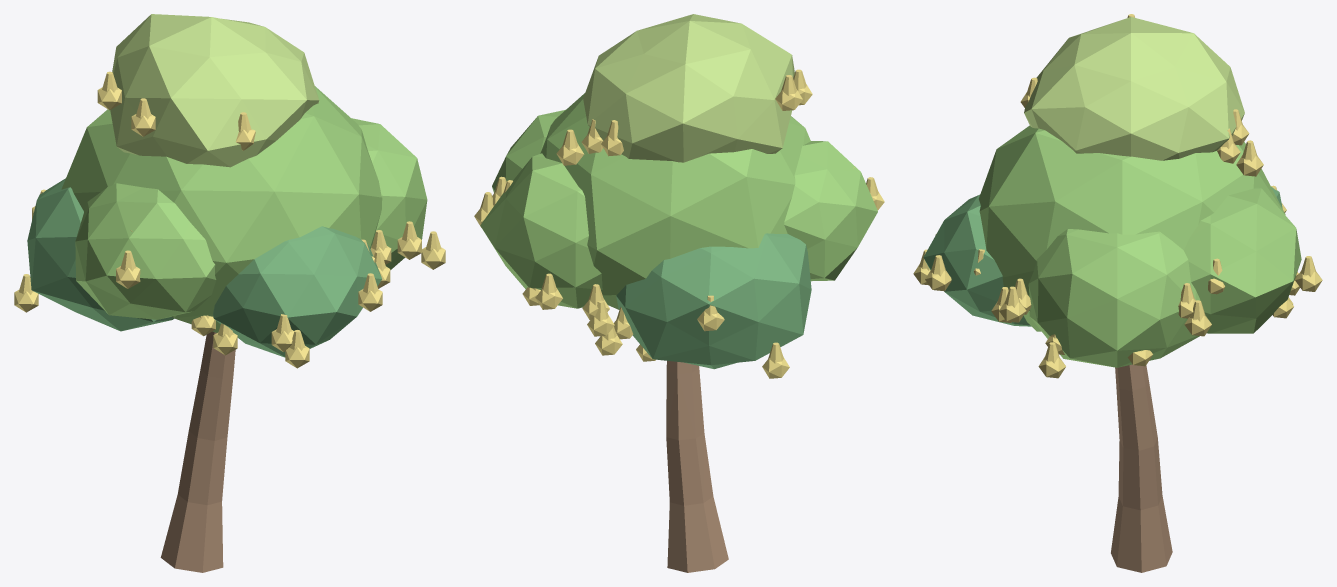
Rendered from pereira_1.fbx.
3 renders of one model, left to right at view 1: azimuth 30°, elevation 25°; view 2: azimuth 150°, elevation 25°; view 3: azimuth 270°, elevation 25°, orthographic. The views are drawn at different scales.
Visible parts, largest first — view 1: pereira_1~Copa 0@leaf, pereira_1~Copa 6@leaflight, pereira_1~Copa 4@leaf, pereira_1~Copa 5@leafdark, pereira_1~Tronco@bark, pereira_1~Copa 3@leafdark, pereira_1~Copa 1@leaf, pereira_1~Fruta 8@pear, pereira_1~Fruta 14@pear, pereira_1~Fruta 17@pear, pereira_1~Fruta 16@pear, pereira_1~Fruta 13@pear (+5 smaller); view 2: pereira_1~Copa 0@leaf, pereira_1~Copa 6@leaflight, pereira_1~Copa 3@leafdark, pereira_1~Copa 2@leaf, pereira_1~Tronco@bark, pereira_1~Copa 4@leaf, pereira_1~Copa 1@leaf, pereira_1~Fruta 1@pear, pereira_1~Fruta 9@pear, pereira_1~Fruta 6@pear, pereira_1~Fruta 16@pear, pereira_1~Fruta 28@pear; view 3: pereira_1~Copa 0@leaf, pereira_1~Copa 6@leaflight, pereira_1~Copa 1@leaf, pereira_1~Copa 2@leaf, pereira_1~Tronco@bark, pereira_1~Copa 5@leafdark, pereira_1~Fruta 1@pear, pereira_1~Fruta 13@pear, pereira_1~Fruta 8@pear, pereira_1~Fruta 6@pear, pereira_1~Fruta 14@pear, pereira_1~Fruta 24@pear.
Boxes of the visible parts, left/top/right/bottom form: pereira_1~Copa 0@leaf: left=61, top=86, right=382, bottom=332; pereira_1~Copa 6@leaflight: left=110, top=14, right=319, bottom=167; pereira_1~Copa 4@leaf: left=75, top=183, right=216, bottom=319; pereira_1~Copa 5@leafdark: left=213, top=226, right=381, bottom=357; pereira_1~Tronco@bark: left=160, top=331, right=235, bottom=572; pereira_1~Copa 3@leafdark: left=27, top=178, right=174, bottom=331; pereira_1~Copa 1@leaf: left=352, top=118, right=427, bottom=269; pereira_1~Fruta 8@pear: left=397, top=221, right=421, bottom=259; pereira_1~Fruta 14@pear: left=358, top=273, right=382, bottom=311; pereira_1~Fruta 17@pear: left=131, top=98, right=155, bottom=136; pereira_1~Fruta 16@pear: left=97, top=71, right=121, bottom=110; pereira_1~Fruta 13@pear: left=421, top=231, right=445, bottom=269; pereira_1~Copa 0@leaf: left=540, top=93, right=810, bottom=309; pereira_1~Copa 6@leaflight: left=583, top=14, right=794, bottom=162; pereira_1~Copa 3@leafdark: left=616, top=233, right=811, bottom=369; pereira_1~Copa 2@leaf: left=480, top=153, right=602, bottom=308; pereira_1~Tronco@bark: left=666, top=361, right=728, bottom=572; pereira_1~Copa 4@leaf: left=784, top=141, right=877, bottom=281; pereira_1~Copa 1@leaf: left=492, top=109, right=565, bottom=192; pereira_1~Fruta 1@pear: left=556, top=129, right=584, bottom=165; pereira_1~Fruta 9@pear: left=762, top=342, right=789, bottom=378; pereira_1~Fruta 6@pear: left=535, top=273, right=562, bottom=309; pereira_1~Fruta 16@pear: left=775, top=75, right=802, bottom=110; pereira_1~Fruta 28@pear: left=587, top=300, right=614, bottom=336; pereira_1~Copa 0@leaf: left=979, top=125, right=1285, bottom=331; pereira_1~Copa 6@leaflight: left=1024, top=17, right=1244, bottom=160; pereira_1~Copa 1@leaf: left=1028, top=229, right=1200, bottom=367; pereira_1~Copa 2@leaf: left=1184, top=187, right=1301, bottom=333; pereira_1~Tronco@bark: left=1111, top=364, right=1172, bottom=572; pereira_1~Copa 5@leafdark: left=923, top=194, right=1031, bottom=326; pereira_1~Fruta 1@pear: left=1236, top=140, right=1263, bottom=176; pereira_1~Fruta 13@pear: left=1038, top=342, right=1065, bottom=378; pereira_1~Fruta 8@pear: left=999, top=286, right=1026, bottom=322; pereira_1~Fruta 6@pear: left=1295, top=256, right=1322, bottom=291; pereira_1~Fruta 14@pear: left=925, top=255, right=951, bottom=291; pereira_1~Fruta 24@pear: left=1184, top=300, right=1211, bottom=336.
Size of the model in its own units: 3.24 by 4.86 by 3.38.
